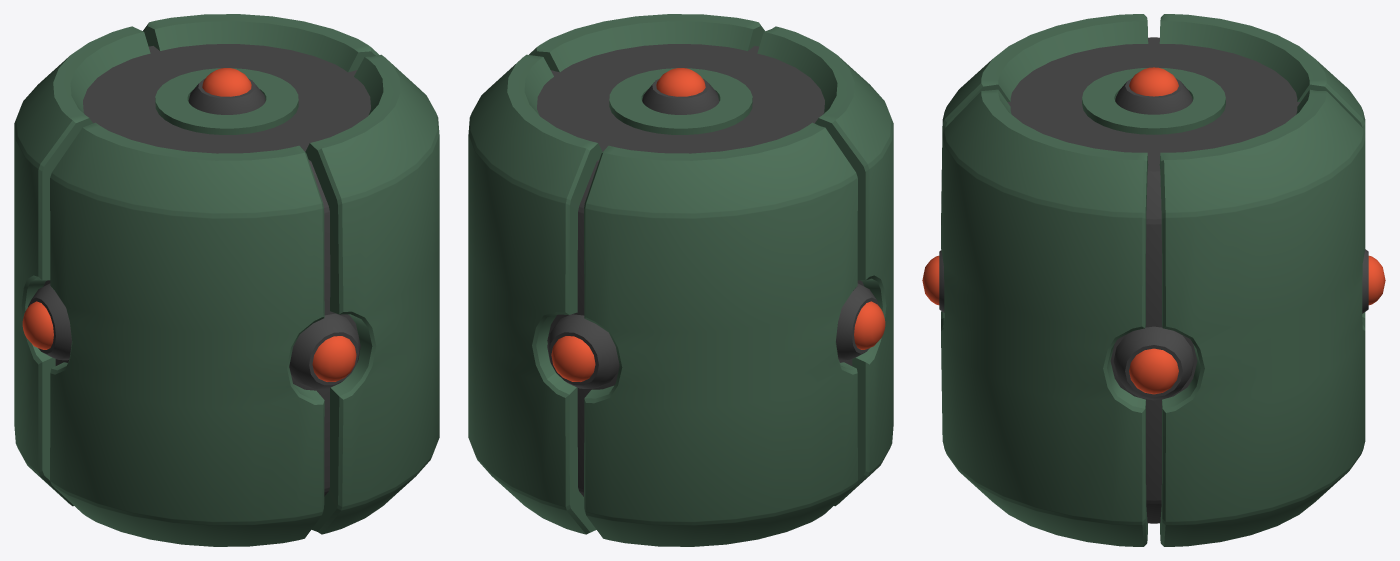
Rendered from GasBomb.fbx.
The picture shows the model from 3 angles, left to right: view 1: azimuth 30°, elevation 25°; view 2: azimuth 150°, elevation 25°; view 3: azimuth 270°, elevation 25°; orthographic projection.
Parts seen in each view (by area): view 1: GasBombMesh; view 2: GasBombMesh; view 3: GasBombMesh.
Boxes of the visible parts, bbox=[...] form: GasBombMesh: bbox=[14, 14, 439, 546]; GasBombMesh: bbox=[468, 14, 893, 546]; GasBombMesh: bbox=[922, 14, 1385, 546].
Bounding box in the file's own units: 54.25 × 54.25 × 54.25.
